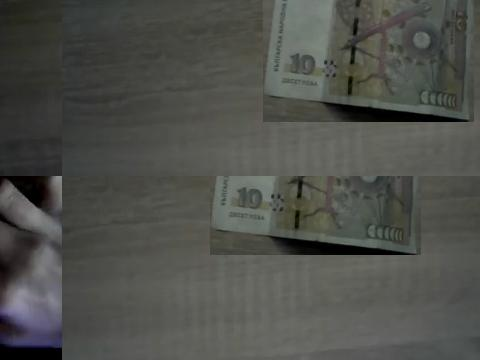10leva: (263, 0, 474, 122), (210, 176, 421, 255)
